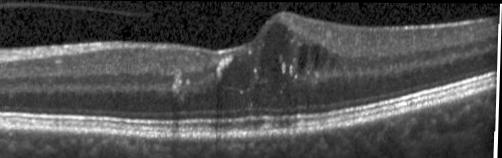intraretinal_cyst: (260, 22, 298, 83), (222, 55, 256, 89), (298, 44, 307, 74), (311, 44, 321, 69), (318, 48, 329, 68), (330, 54, 339, 68)
vitreous_detachment: (1, 2, 154, 16)
